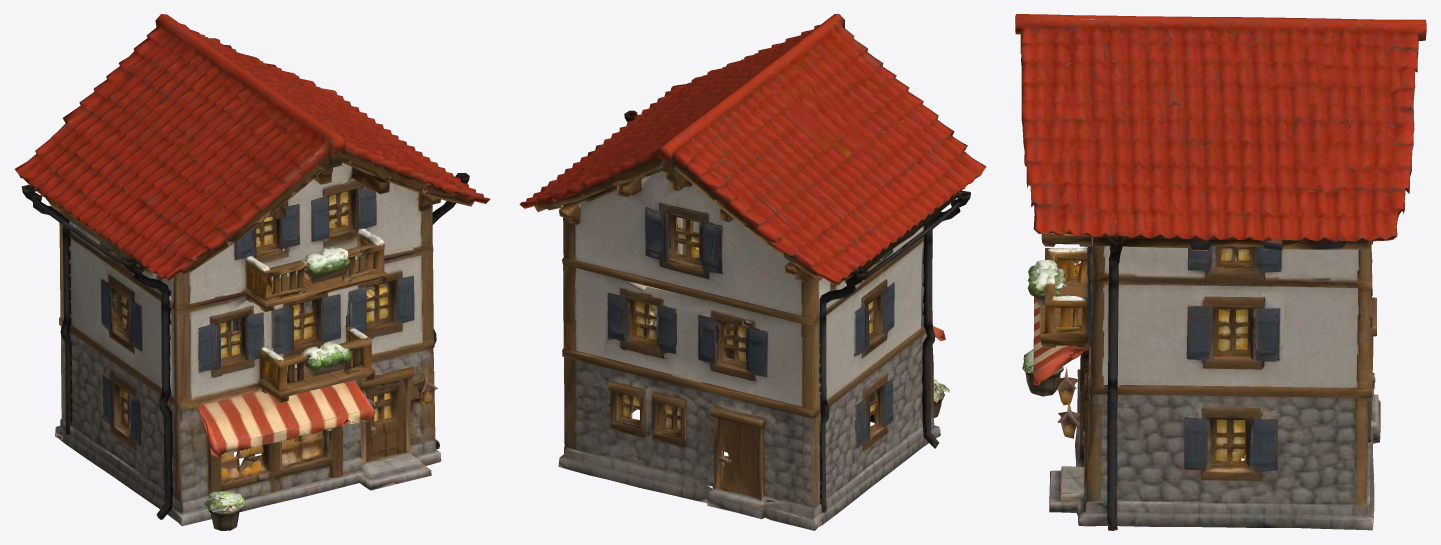
The picture shows the model from 3 angles, left to right: view 1: azimuth 30°, elevation 25°; view 2: azimuth 150°, elevation 25°; view 3: azimuth 270°, elevation 25°; orthographic projection. The views are drawn at different scales.
Visible parts, largest first — view 1: alpine__shop_3__native_mobile; view 2: alpine__shop_3__native_mobile; view 3: alpine__shop_3__native_mobile.
Part boxes in pixels (x1,y1,x2,y2): alpine__shop_3__native_mobile: [14, 14, 490, 530]; alpine__shop_3__native_mobile: [519, 14, 986, 530]; alpine__shop_3__native_mobile: [1015, 14, 1426, 530].
Bounding box in the file's own units: 0.9594 × 1 × 0.8418.
Materials: 1 (1 with a texture image).
